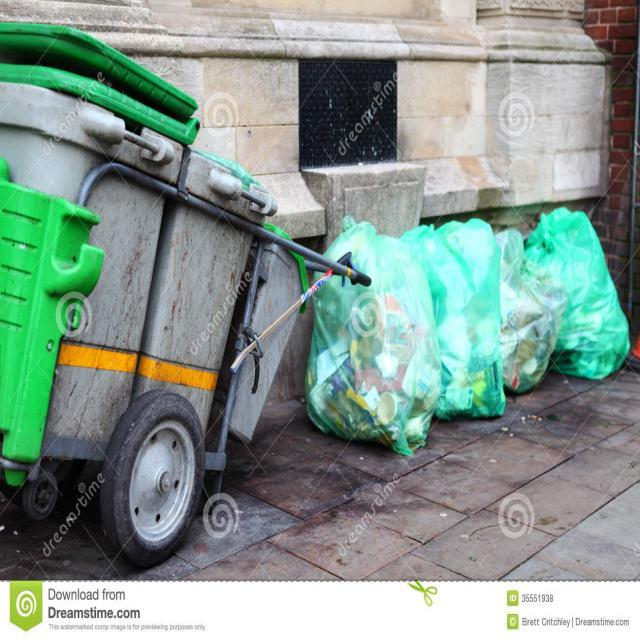plastic: (292, 209, 435, 461), (511, 201, 634, 389), (438, 212, 506, 429)
